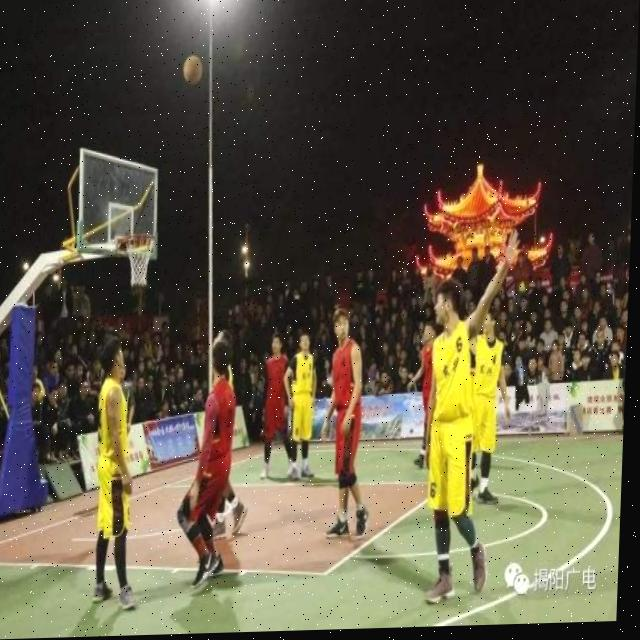basketball: (182, 54, 205, 88)
hoop: (125, 232, 156, 288)
